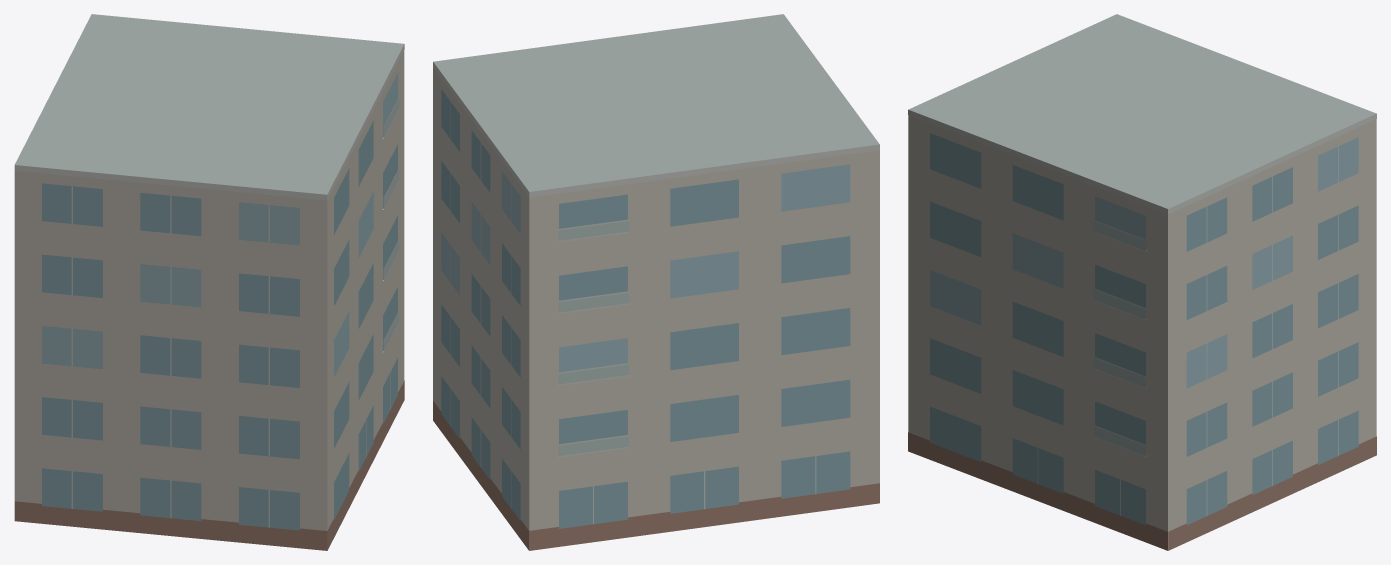
File: survey-upis-33036614.glb
The picture shows the model from 3 angles, left to right: view 1: azimuth 30°, elevation 25°; view 2: azimuth 150°, elevation 25°; view 3: azimuth 270°, elevation 25°; orthographic projection. The views are drawn at different scales.
Parts seen in each view (by area): view 1: survey-upis-33036614.tmp; view 2: survey-upis-33036614.tmp; view 3: survey-upis-33036614.tmp.
Part boxes in pixels (left/top/right/bottom): survey-upis-33036614.tmp: left=14, top=14, right=404, bottom=550; survey-upis-33036614.tmp: left=433, top=14, right=879, bottom=550; survey-upis-33036614.tmp: left=908, top=14, right=1376, bottom=550.
Bounding box in the file's own units: 18.92 × 15.45 × 19.2.
